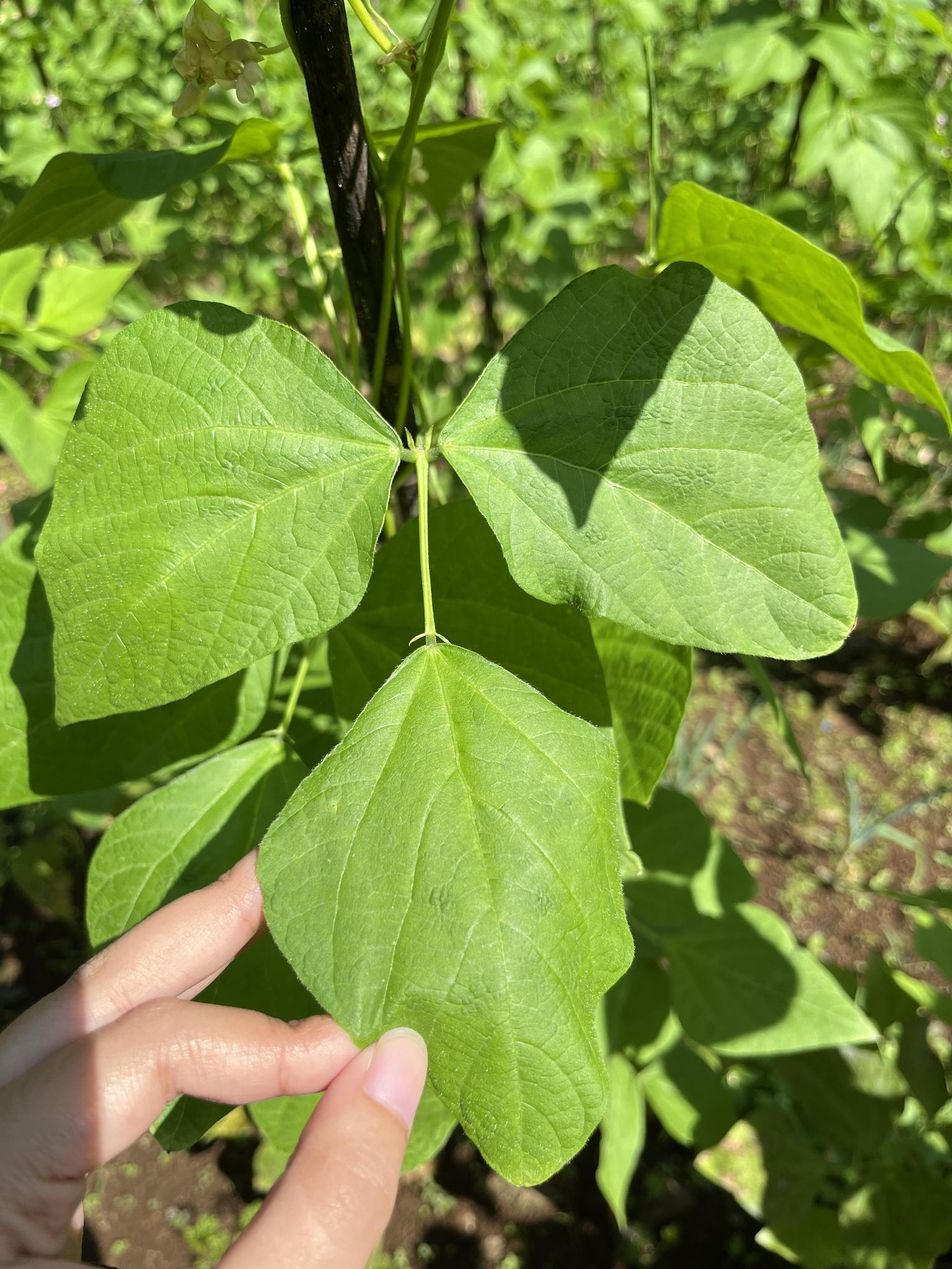sehat: (251, 257, 847, 1194)
